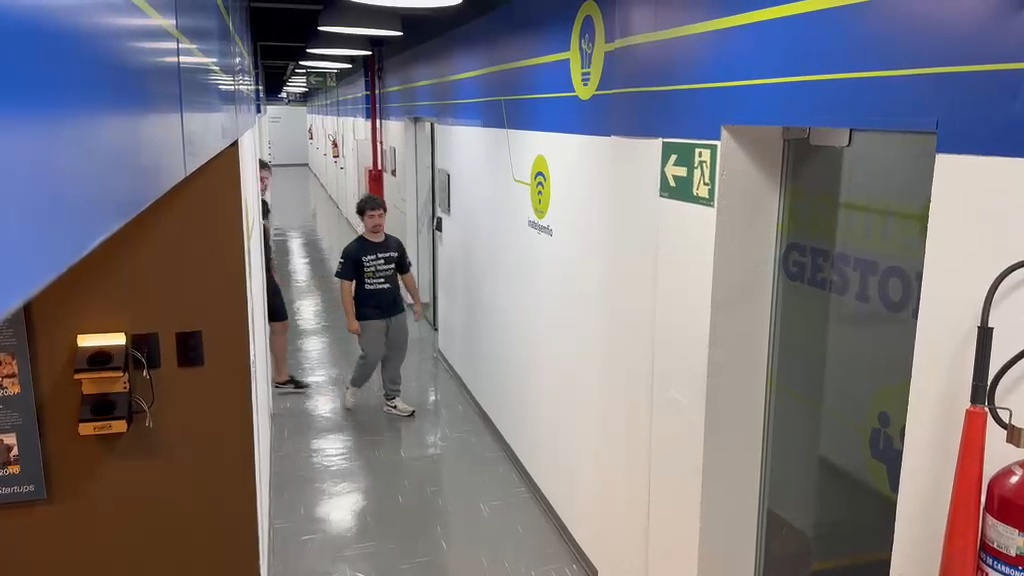person: (335, 194, 424, 418), (264, 150, 294, 388)
